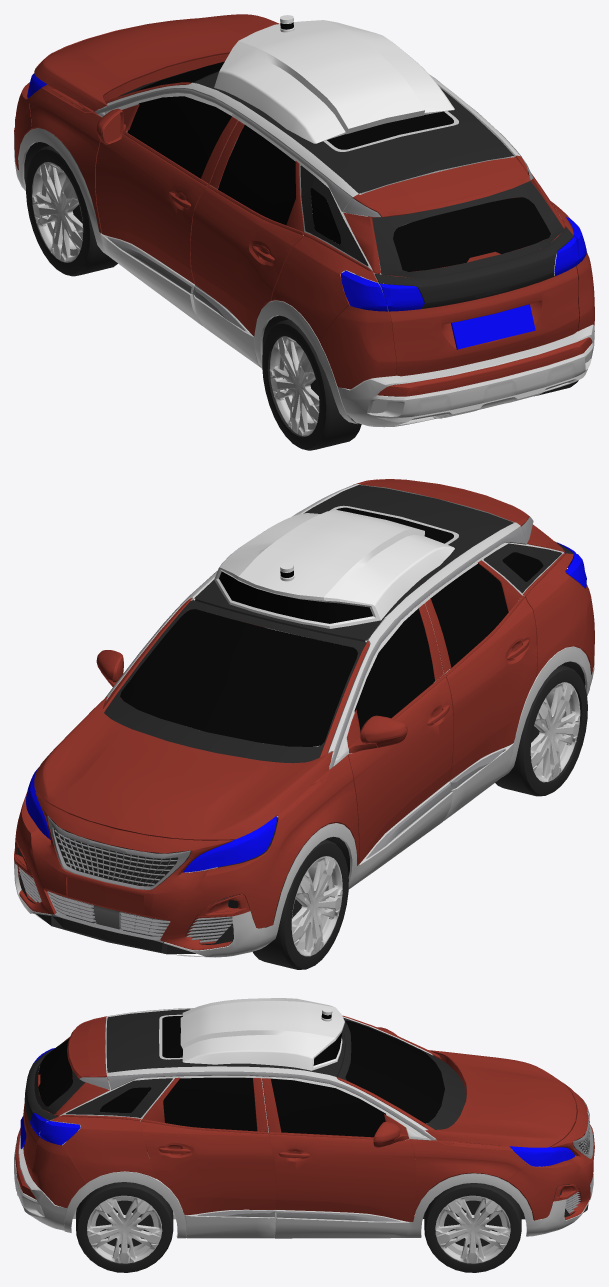
The model's file is maincar_suv.glb.
3 renders of one model, top to bottom at view 1: azimuth 30°, elevation 25°; view 2: azimuth 150°, elevation 25°; view 3: azimuth 270°, elevation 25°, orthographic. The views are drawn at different scales.
Visible parts, largest first — view 1: maincar2_suv_car, radar, maincar2_suv_back_left, maincar2_suv_front_left, maincar2_suv_carlight_license; view 2: maincar2_suv_car, radar, maincar2_suv_front_left, maincar2_suv_back_left, maincar2_suv_carlight_license; view 3: maincar2_suv_car, radar, maincar2_suv_back_right, maincar2_suv_front_right, maincar2_suv_carlight_license.
Part boxes in pixels (x1,y1,x2,y2): maincar2_suv_car: [14, 14, 594, 427]; radar: [214, 15, 454, 143]; maincar2_suv_back_left: [262, 319, 361, 450]; maincar2_suv_front_left: [26, 143, 117, 276]; maincar2_suv_carlight_license: [27, 73, 586, 349]; maincar2_suv_car: [14, 479, 594, 957]; radar: [214, 510, 454, 628]; maincar2_suv_front_left: [253, 839, 348, 969]; maincar2_suv_back_left: [495, 665, 587, 796]; maincar2_suv_carlight_license: [25, 542, 586, 872]; maincar2_suv_car: [14, 1008, 594, 1238]; radar: [180, 998, 344, 1070]; maincar2_suv_back_right: [76, 1182, 173, 1272]; maincar2_suv_front_right: [424, 1183, 521, 1272]; maincar2_suv_carlight_license: [20, 1048, 574, 1166].
Size of the model in its own units: 2.33 by 2.16 by 5.23.
